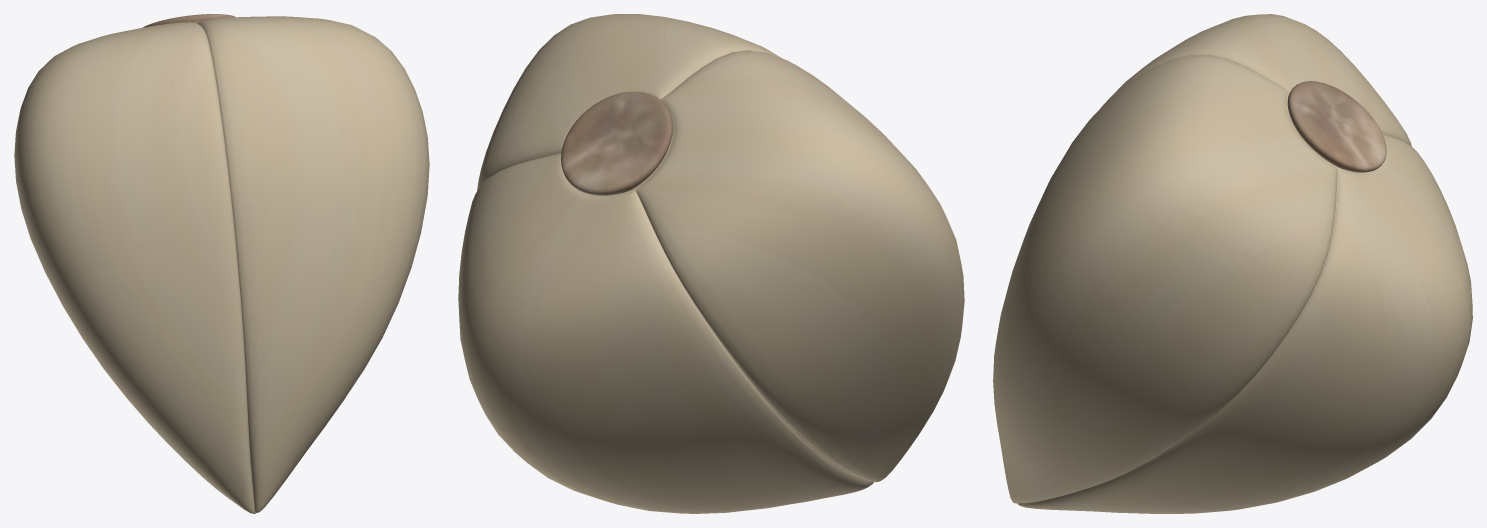
Rendered from GrainBuckwheat041.obj.
The picture shows the model from 3 angles, left to right: view 1: azimuth 30°, elevation 25°; view 2: azimuth 150°, elevation 25°; view 3: azimuth 270°, elevation 25°; orthographic projection. The views are drawn at different scales.
Parts seen in each view (by area): view 1: GrainBuckwheat041; view 2: GrainBuckwheat041; view 3: GrainBuckwheat041.
Boxes of the visible parts, x1,y1,x2,y2 form: GrainBuckwheat041: [14, 14, 429, 513]; GrainBuckwheat041: [458, 14, 964, 513]; GrainBuckwheat041: [993, 14, 1472, 513].
Size of the model in its own units: 0.0264 by 0.029 by 0.0266.
1 material, 1 textured.
